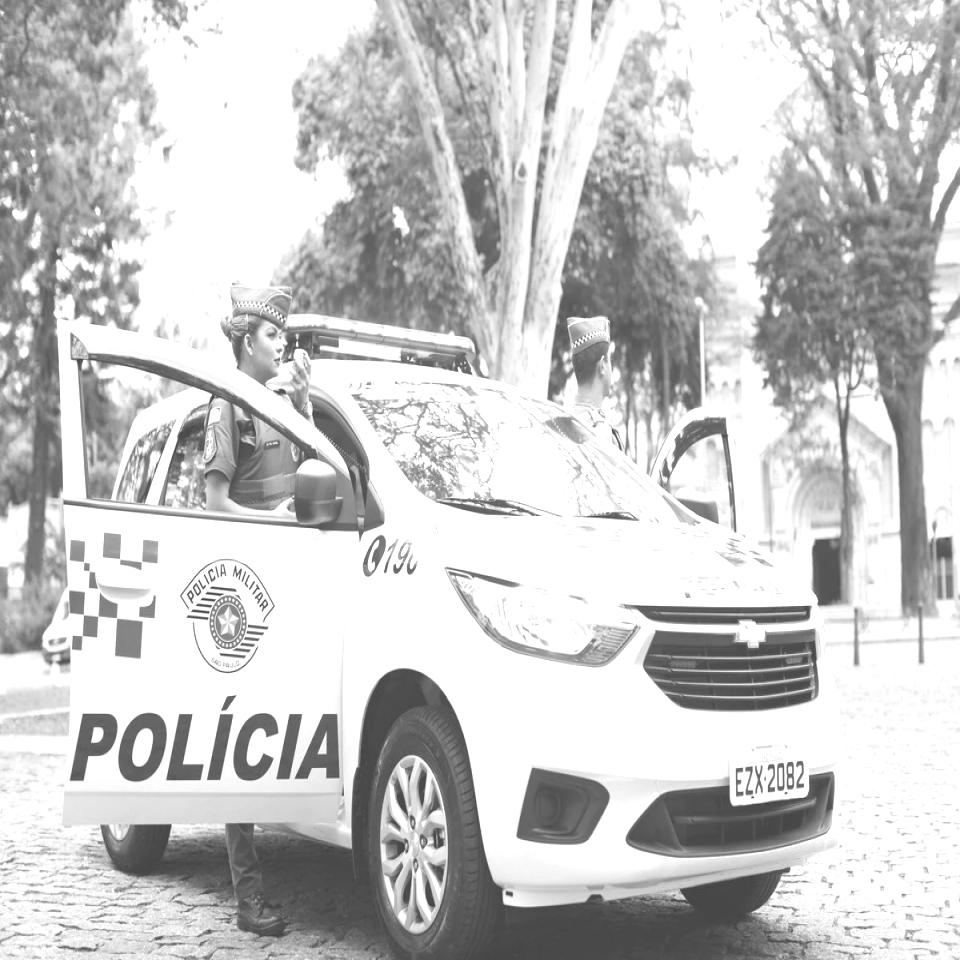viatura: (54, 313, 845, 958)
